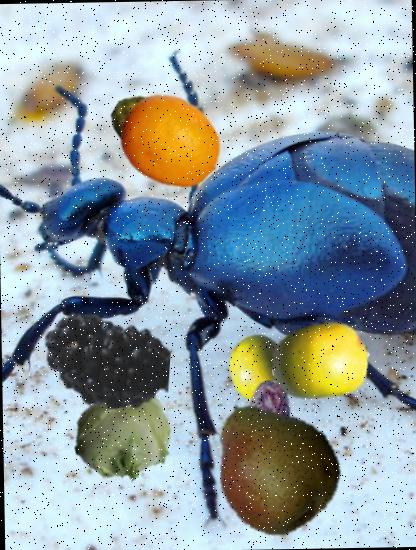Cactus: (108, 80, 212, 185)
Dates: (206, 379, 322, 495)
Kohlrabi: (73, 388, 173, 488)
Lemon: (119, 88, 224, 194)
Mulberry: (42, 297, 170, 425)
Pear: (199, 393, 343, 537)
Pomelo: (270, 310, 370, 411), (223, 332, 298, 408)
